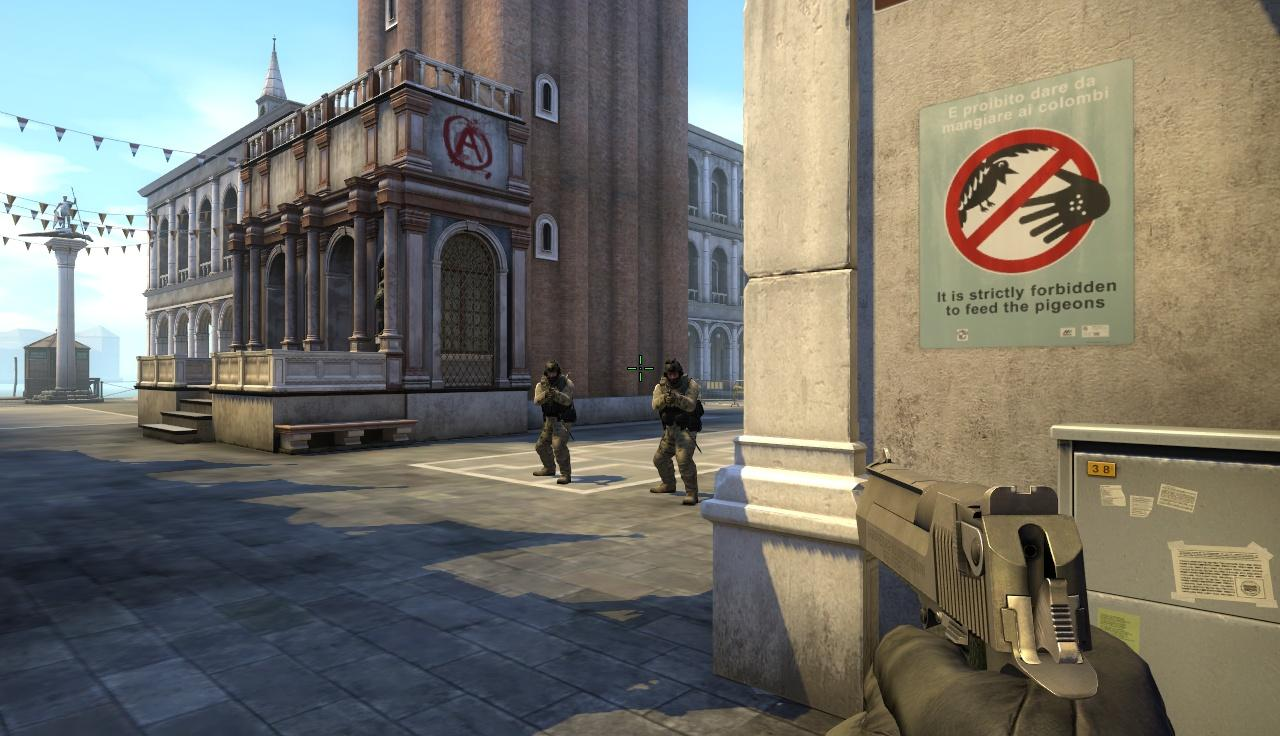ct: (653, 358, 700, 505), (534, 360, 572, 484)
cthead: (662, 359, 683, 386), (544, 361, 560, 381)
pistol: (850, 454, 1178, 736)
